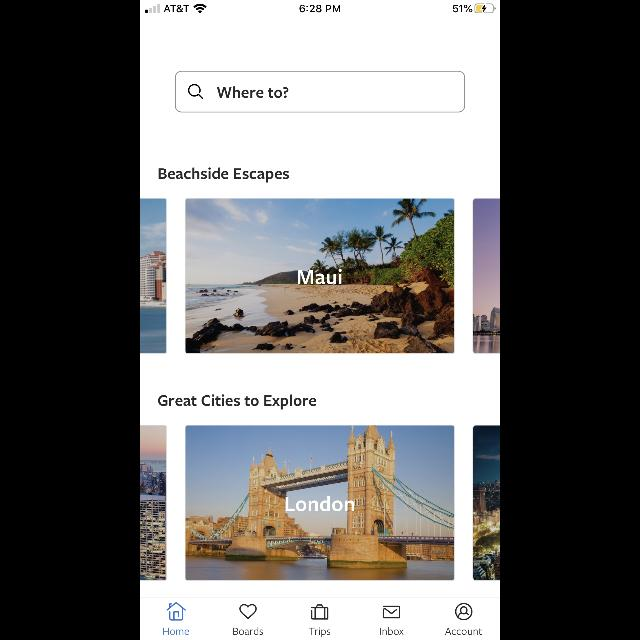icon: (167, 602, 186, 620), (456, 604, 472, 620), (312, 604, 328, 620), (188, 84, 204, 100), (240, 604, 256, 618), (384, 606, 401, 618)
image: (185, 425, 455, 581), (185, 198, 455, 354), (472, 425, 500, 581), (140, 425, 168, 581), (472, 198, 500, 354), (140, 198, 168, 354)
input: (175, 72, 465, 112)
text: (158, 394, 316, 410), (158, 168, 290, 182), (286, 496, 354, 512), (218, 88, 288, 99), (298, 269, 342, 285), (444, 628, 482, 634), (310, 628, 330, 638), (234, 628, 262, 634), (164, 628, 188, 634), (381, 628, 404, 634)
uppertaskbar: (140, 0, 500, 14)
